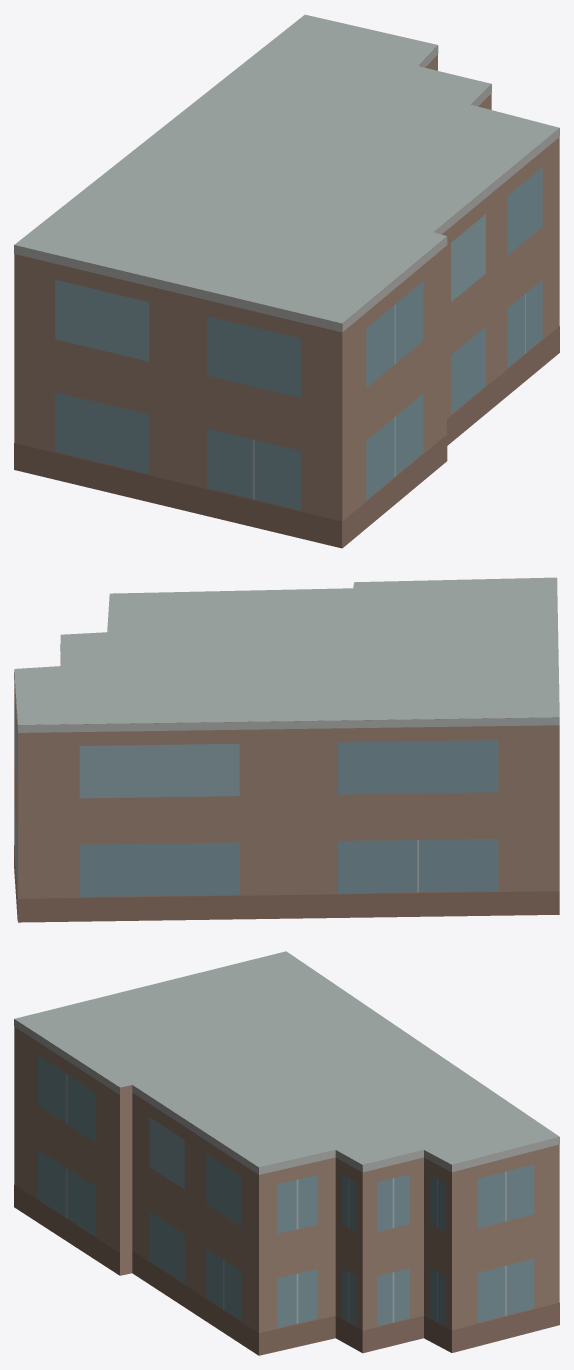
The model's file is survey-upis-33040846.glb.
The picture shows the model from 3 angles, top to bottom: view 1: azimuth 30°, elevation 25°; view 2: azimuth 150°, elevation 25°; view 3: azimuth 270°, elevation 25°; orthographic projection. The views are drawn at different scales.
Visible parts, largest first — view 1: survey-upis-33040846.tmp; view 2: survey-upis-33040846.tmp; view 3: survey-upis-33040846.tmp.
Boxes of the visible parts, left/top/right/bottom form: survey-upis-33040846.tmp: left=14, top=14, right=559, bottom=548; survey-upis-33040846.tmp: left=14, top=577, right=559, bottom=922; survey-upis-33040846.tmp: left=14, top=951, right=559, bottom=1355.
Size of the model in its own units: 15.03 by 6.1 by 16.03.
